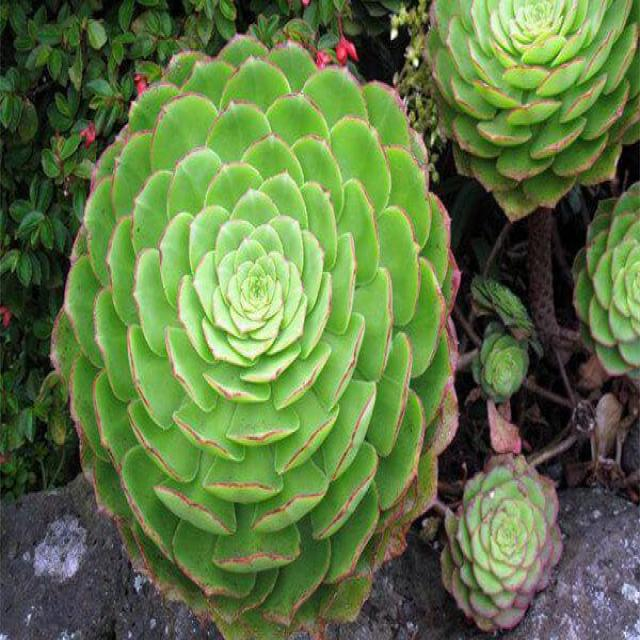organic waste: (52, 29, 462, 622), (423, 7, 634, 215), (438, 447, 555, 626), (562, 165, 640, 395)
